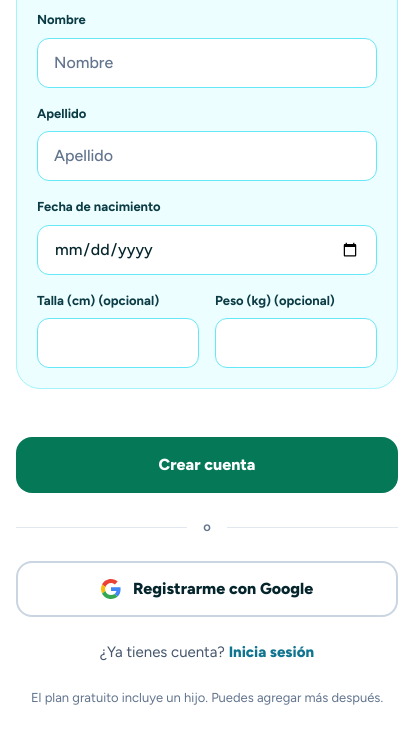
Scenario: AccountSignupForm › form — phone design › shows the mock's messages under the account and child fields when they are empty
(page scrolled)
Click the button "Crear cuenta". click: coordinates (207, 465)
box: 16,437 -> 398,493
(page scrolled)
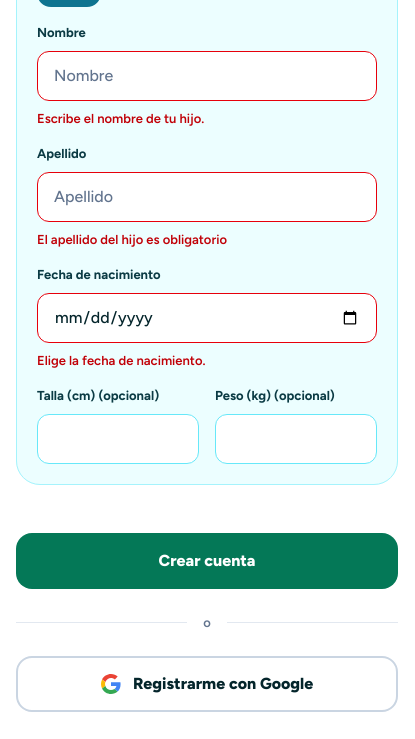
Expected: the text "Escribe el nombre de tu hijo." is shown, 37,111 -> 204,126
Expected: the text "Elige la fecha de nacimiento." is shown, 37,353 -> 206,368
